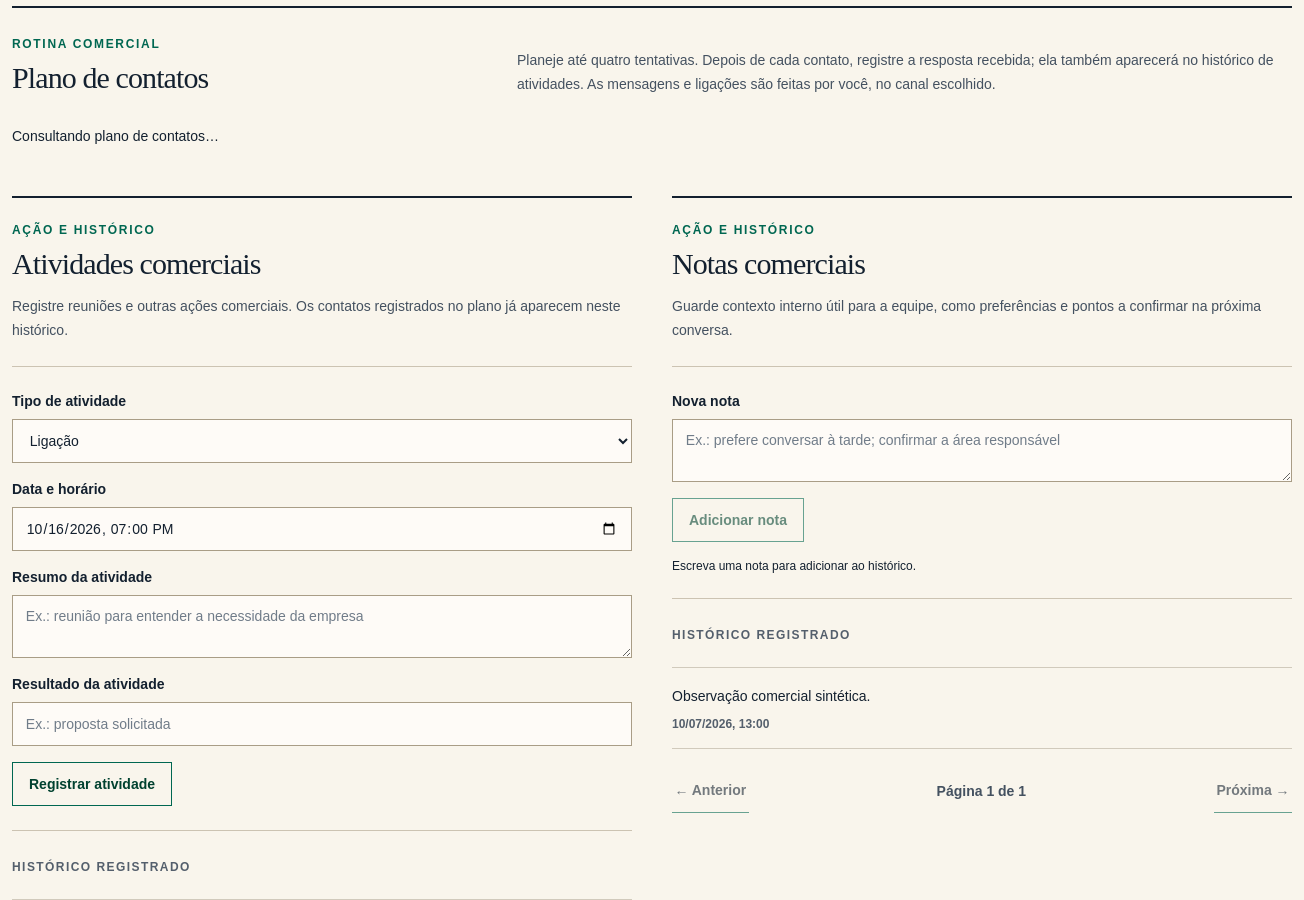
Test: commercial workspace detail page › stops displaying private data and requesting it after a note mutation returns 401
(page scrolled)
Check: the text "Observação comercial sintética." is shown, box [672, 688, 870, 704]
Step 1. Type "Nota que não será salva" into the text box labelled "Nova nota" → (982, 450), box [672, 419, 1292, 482]
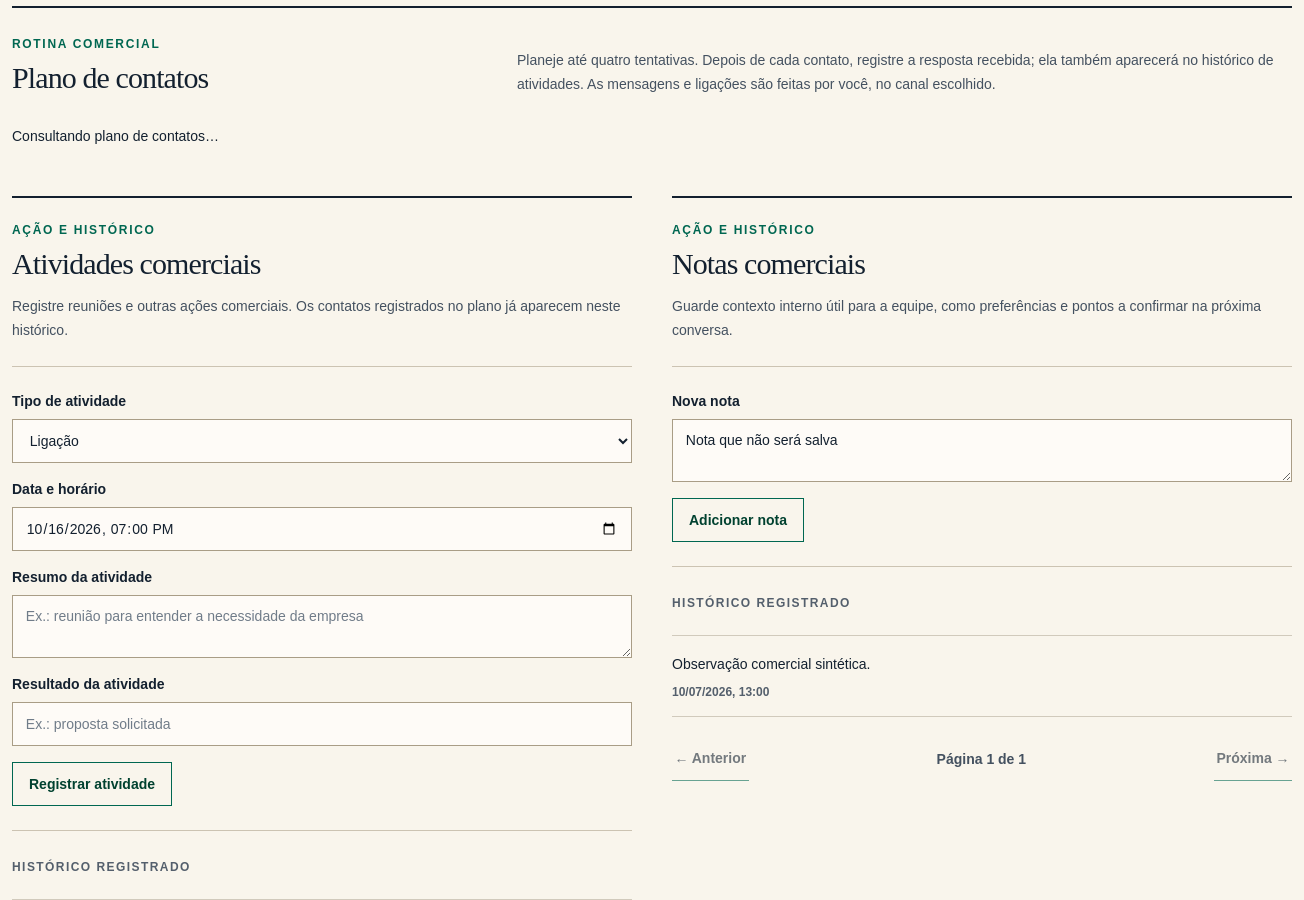
Step 2. Click the button "Adicionar nota" → (738, 520), box [672, 498, 804, 542]
(page scrolled)
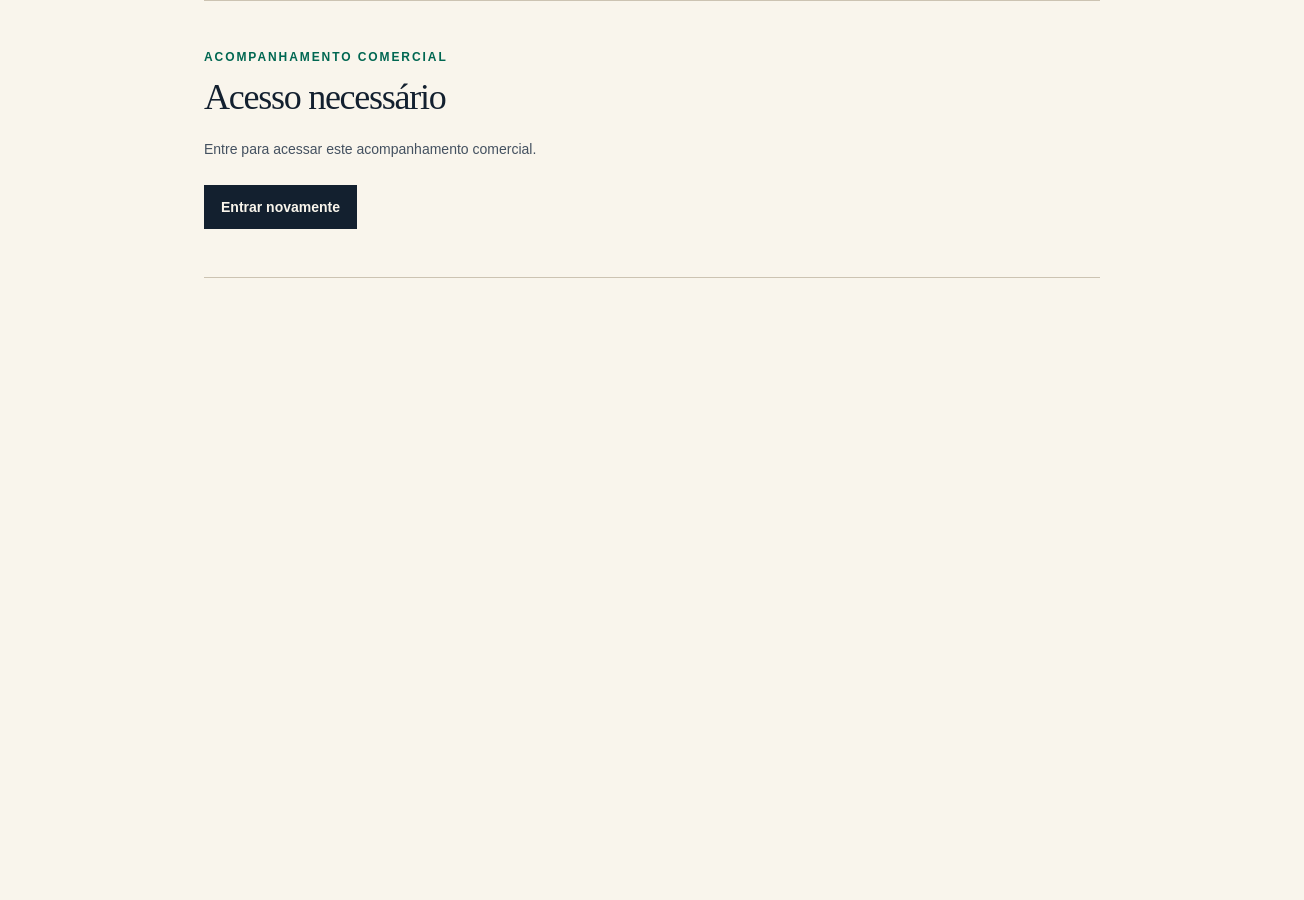
Check: the text "Entre para acessar este acompanhamento comercial." is shown, box [204, 141, 536, 157]
Check: the text "Observação comercial sintética." is gone
